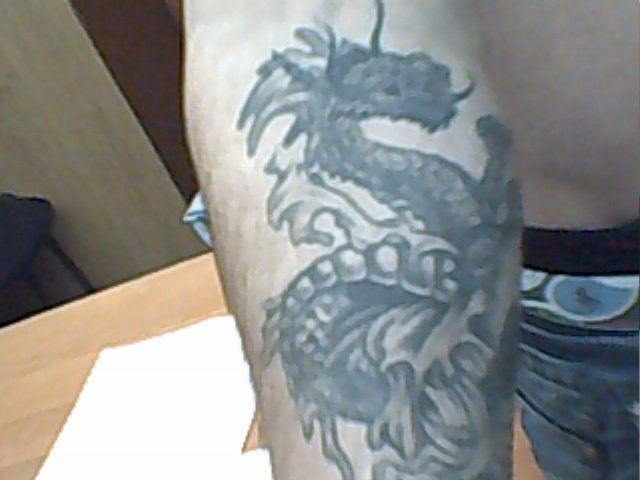tatu6_drakon: (224, 6, 551, 480)
